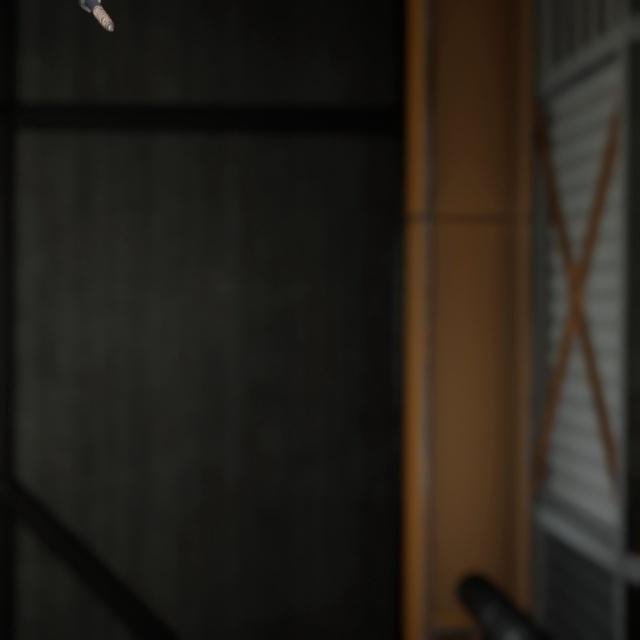bolt: (76, 0, 118, 28)
